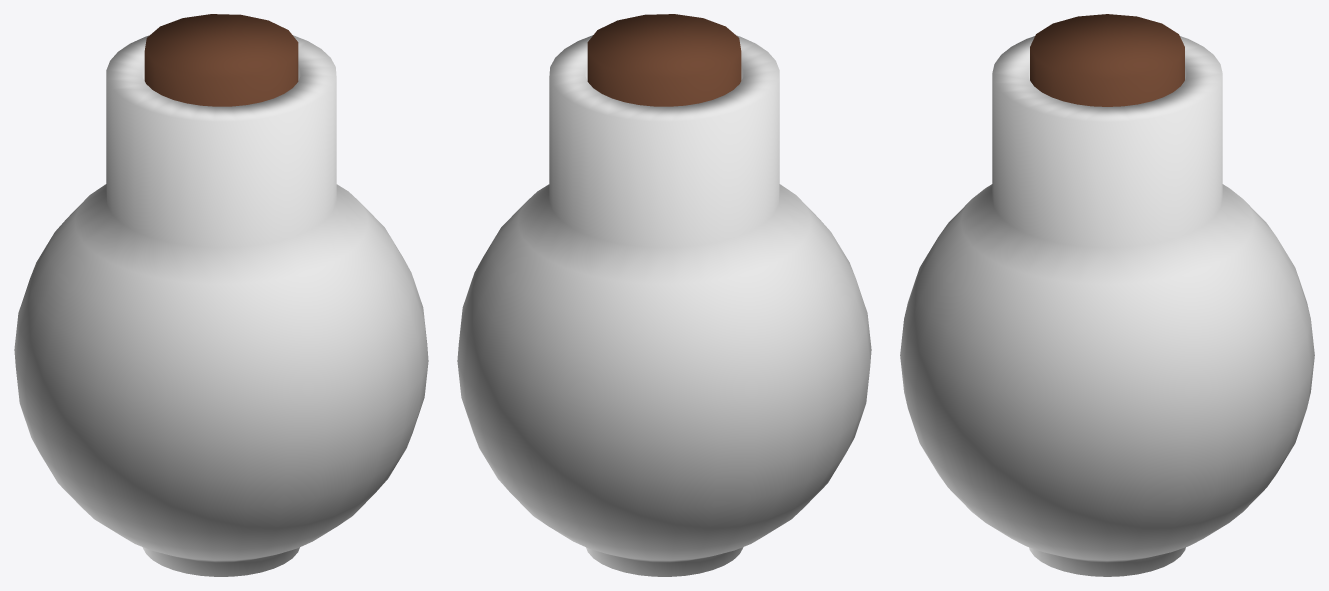
File: SpherePotionClosed.fbx
3 renders of one model, left to right at view 1: azimuth 30°, elevation 25°; view 2: azimuth 150°, elevation 25°; view 3: azimuth 270°, elevation 25°, orthographic.
Visible parts, largest first — view 1: SpherePotionClosed; view 2: SpherePotionClosed; view 3: SpherePotionClosed.
Part boxes in pixels (bbox=[...]): SpherePotionClosed: bbox=[14, 14, 428, 576]; SpherePotionClosed: bbox=[457, 14, 871, 576]; SpherePotionClosed: bbox=[900, 14, 1314, 576].
Bounding box in the file's own units: 180 × 238 × 180.
